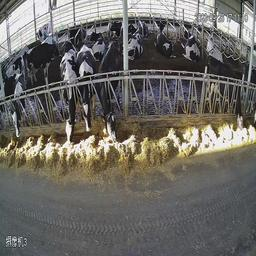cow: (206, 52, 244, 133), (99, 40, 121, 144), (76, 41, 96, 138), (60, 48, 79, 145), (27, 39, 59, 84), (8, 71, 26, 138), (204, 31, 226, 63), (157, 18, 175, 57), (182, 24, 199, 62), (5, 47, 25, 79), (127, 19, 142, 59), (88, 27, 105, 57), (35, 18, 52, 41), (69, 24, 86, 45), (110, 17, 123, 37), (139, 18, 150, 38)
